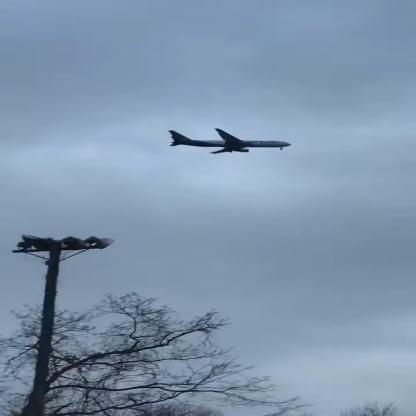plane: (159, 117, 308, 166)
